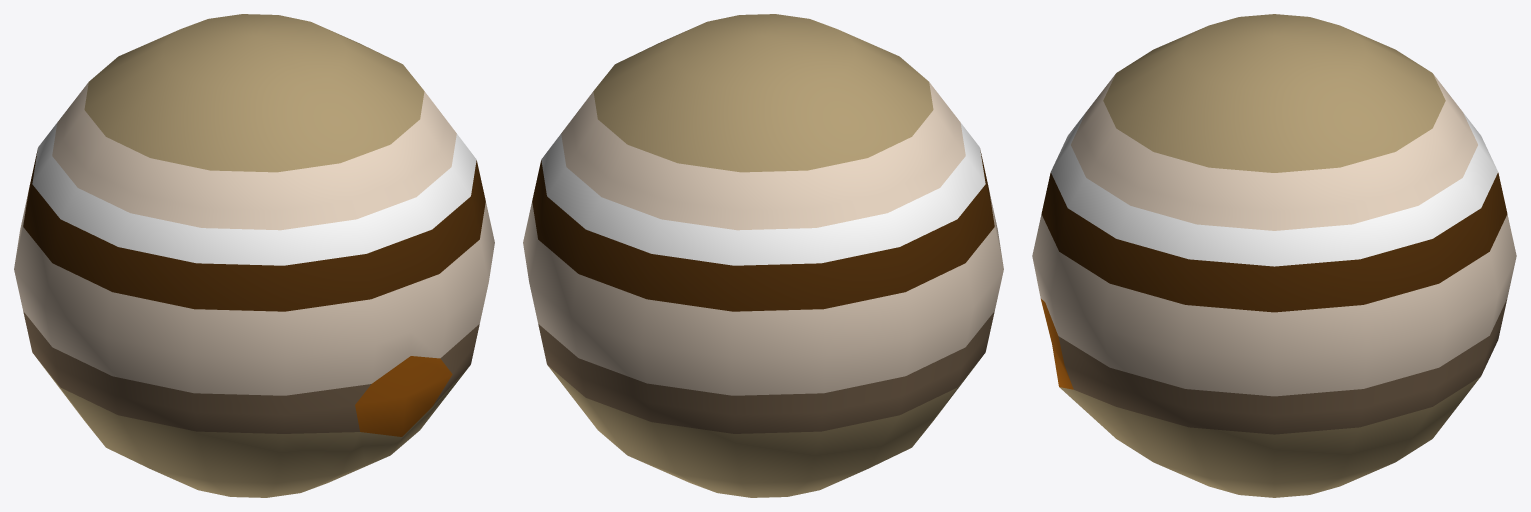
The model's file is 05_Jupter.gltf.
The picture shows the model from 3 angles, left to right: view 1: azimuth 30°, elevation 25°; view 2: azimuth 150°, elevation 25°; view 3: azimuth 270°, elevation 25°; orthographic projection.
Parts seen in each view (by area): view 1: 05_Jupter; view 2: 05_Jupter; view 3: 05_Jupter.
Part boxes in pixels (<box>): 05_Jupter: <box>14,14,494,497</box>; 05_Jupter: <box>523,14,1003,497</box>; 05_Jupter: <box>1032,14,1516,497</box>.
Size of the model in its own units: 0.9706 by 0.9706 by 0.9706.
1 material, 1 textured.
